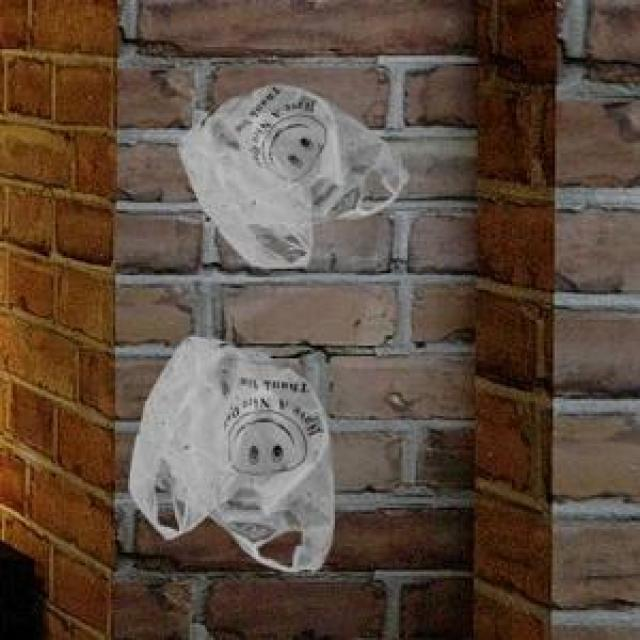waste: (131, 336, 334, 572), (179, 85, 408, 272)
